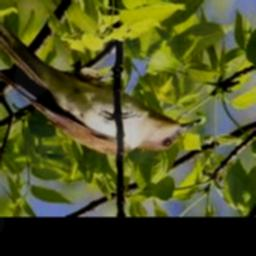Cuckoo: (0, 3, 201, 154)
